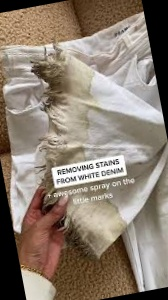earth: (37, 68, 99, 130), (72, 206, 120, 247), (46, 133, 87, 165)
